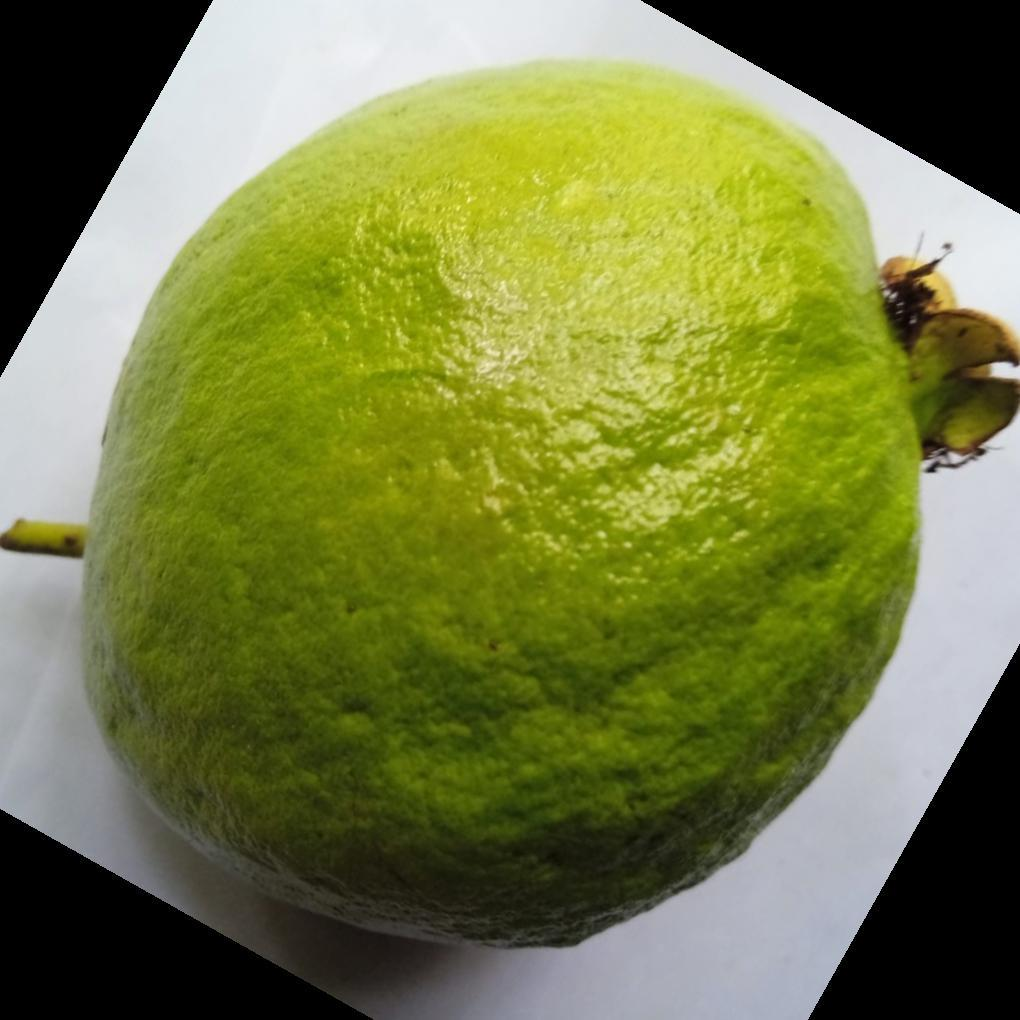FreshGuava: (76, 57, 1020, 955)
